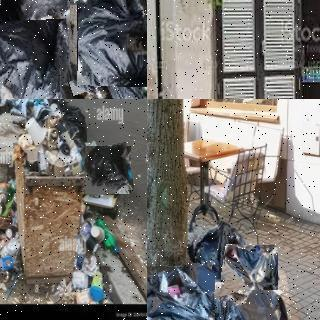Garbage: (0, 0, 81, 99), (77, 0, 147, 86), (147, 265, 216, 320), (190, 220, 248, 281), (209, 277, 281, 320), (63, 66, 147, 99), (83, 144, 133, 196), (225, 245, 278, 290), (0, 0, 69, 20), (60, 102, 88, 141)
